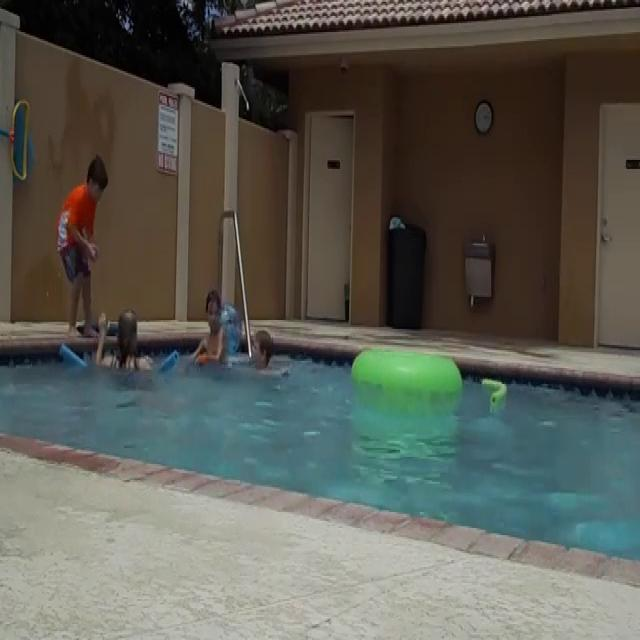adult: (93, 311, 149, 374)
child: (55, 157, 109, 335), (192, 289, 228, 366), (246, 332, 279, 376)
